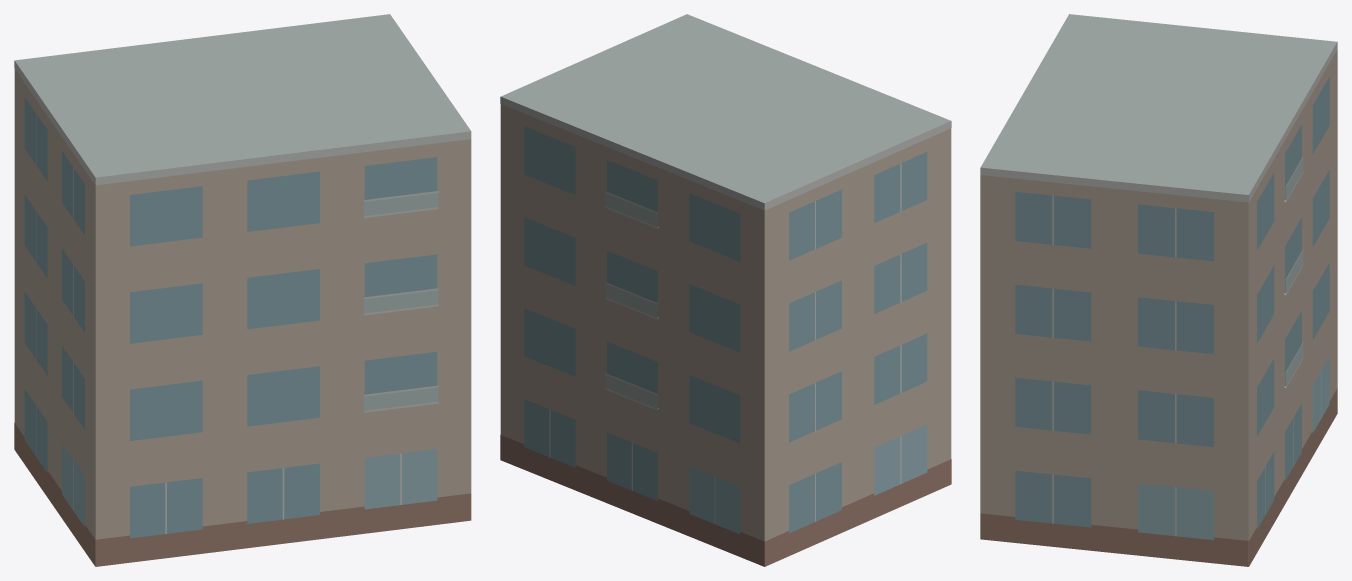
File: residential-09f55179-fe80-4e45-aad1-a80baefa05fa.glb
The picture shows the model from 3 angles, left to right: view 1: azimuth 30°, elevation 25°; view 2: azimuth 150°, elevation 25°; view 3: azimuth 270°, elevation 25°; orthographic projection. The views are drawn at different scales.
Visible parts, largest first — view 1: residential-09f55179-fe80-4e45-aad1-a80baefa05fa.tmp; view 2: residential-09f55179-fe80-4e45-aad1-a80baefa05fa.tmp; view 3: residential-09f55179-fe80-4e45-aad1-a80baefa05fa.tmp.
Part boxes in pixels (bbox=[...]): residential-09f55179-fe80-4e45-aad1-a80baefa05fa.tmp: bbox=[14, 14, 471, 566]; residential-09f55179-fe80-4e45-aad1-a80baefa05fa.tmp: bbox=[500, 14, 951, 566]; residential-09f55179-fe80-4e45-aad1-a80baefa05fa.tmp: bbox=[980, 14, 1337, 566].
Size of the model in its own units: 12.76 by 12.2 by 10.63.
